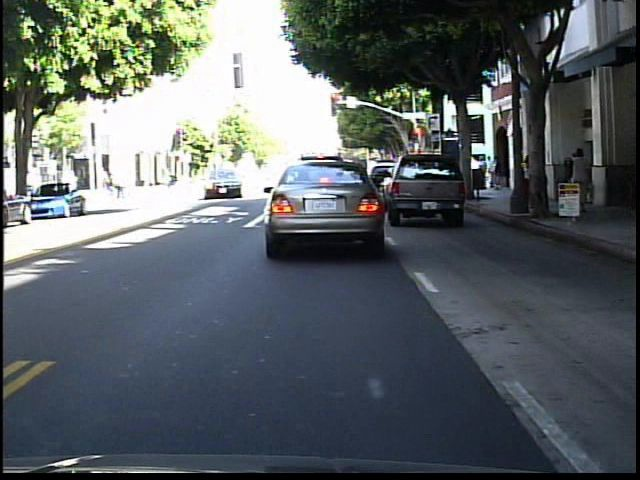person: (568, 147, 593, 213), (519, 150, 537, 212), (571, 150, 586, 204)
